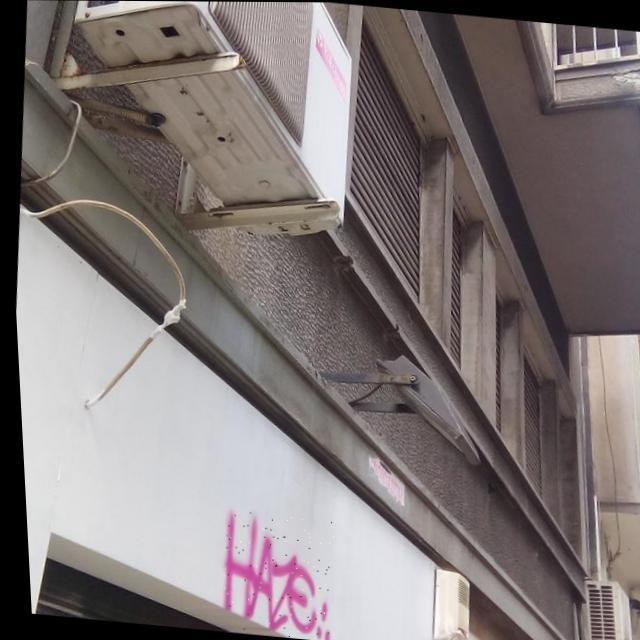-: (210, 510, 336, 640)
